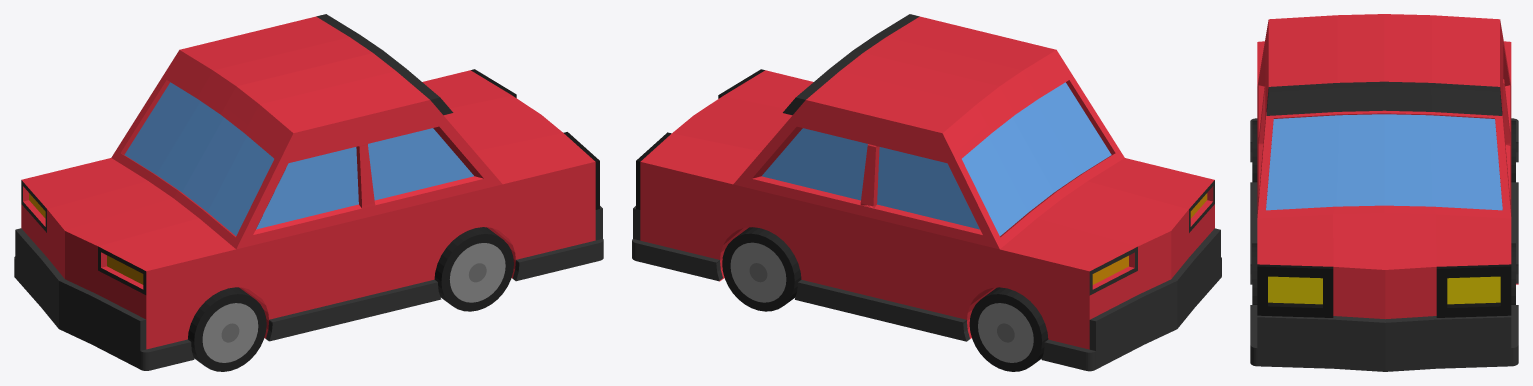
File: araba.fbx
3 views of the same model, side by side, from view 1: azimuth 30°, elevation 25°; view 2: azimuth 150°, elevation 25°; view 3: azimuth 270°, elevation 25° (orthographic).
Parts seen in each view (by area): view 1: Cube, Cube.004, arkcacam, koltuıkcam, Cylinder.002, Cylinder.003, Cube.001, Cube.006, Cube.002, Cube.005; view 2: Cube, Cube.004, arkcacam, koltuıkcam, Cylinder.001, Cylinder.004, Cube.001, Cube.006, Cube.002, Cube.005; view 3: Cube, oncam, Cube.004, Cube.001, Cube.002, Cube.003, Cylinder.003, Cylinder.002, Cylinder.004, Cylinder.001.
Boxes of the visible parts, x1,y1,x2,y2 form: Cube: (21, 16, 595, 349); Cube.004: (14, 206, 603, 370); arkcacam: (124, 82, 273, 235); koltuıkcam: (256, 128, 473, 229); Cylinder.002: (434, 227, 513, 311); Cylinder.003: (188, 287, 266, 371); Cube.001: (316, 14, 453, 115); Cube.006: (21, 180, 146, 294); Cube.002: (471, 69, 599, 209); Cube.005: (29, 193, 143, 284); Cube: (640, 16, 1214, 349); Cube.004: (632, 206, 1221, 371); arkcacam: (962, 82, 1111, 235); koltuıkcam: (762, 128, 979, 229); Cylinder.001: (722, 227, 801, 311); Cylinder.004: (969, 287, 1048, 371); Cube.001: (783, 14, 919, 115); Cube.006: (1089, 180, 1214, 295); Cube.002: (636, 69, 764, 209); Cube.005: (1092, 193, 1207, 284); Cube: (1257, 14, 1518, 319); oncam: (1266, 114, 1502, 210); Cube.004: (1250, 118, 1518, 371); Cube.001: (1266, 81, 1502, 115); Cube.002: (1257, 264, 1511, 317); Cube.003: (1268, 276, 1500, 304); Cylinder.003: (1252, 120, 1257, 182); Cylinder.002: (1252, 243, 1257, 304); Cylinder.004: (1511, 120, 1515, 182); Cylinder.001: (1511, 243, 1515, 304).
Size of the model in its own units: 321 by 137 by 150.
